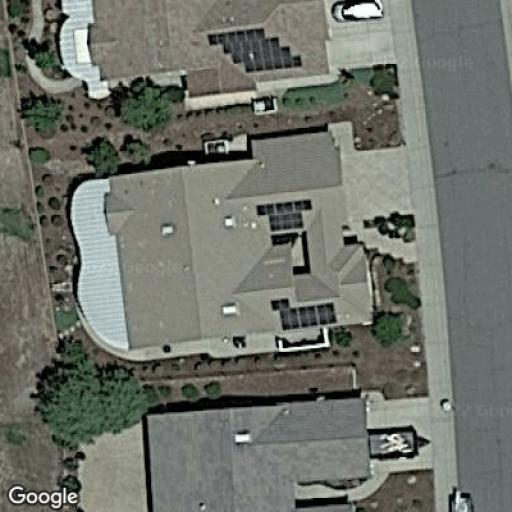solar-panel: (206, 27, 303, 73), (269, 296, 338, 332), (254, 198, 316, 231)
